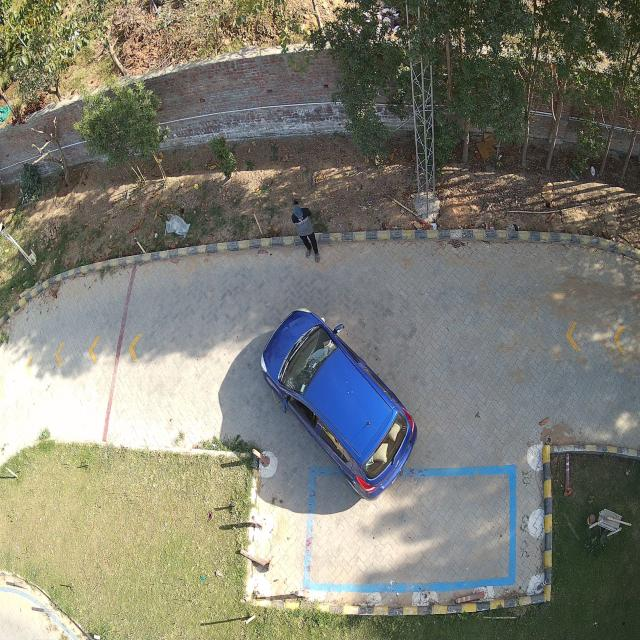car: (260, 307, 418, 501)
